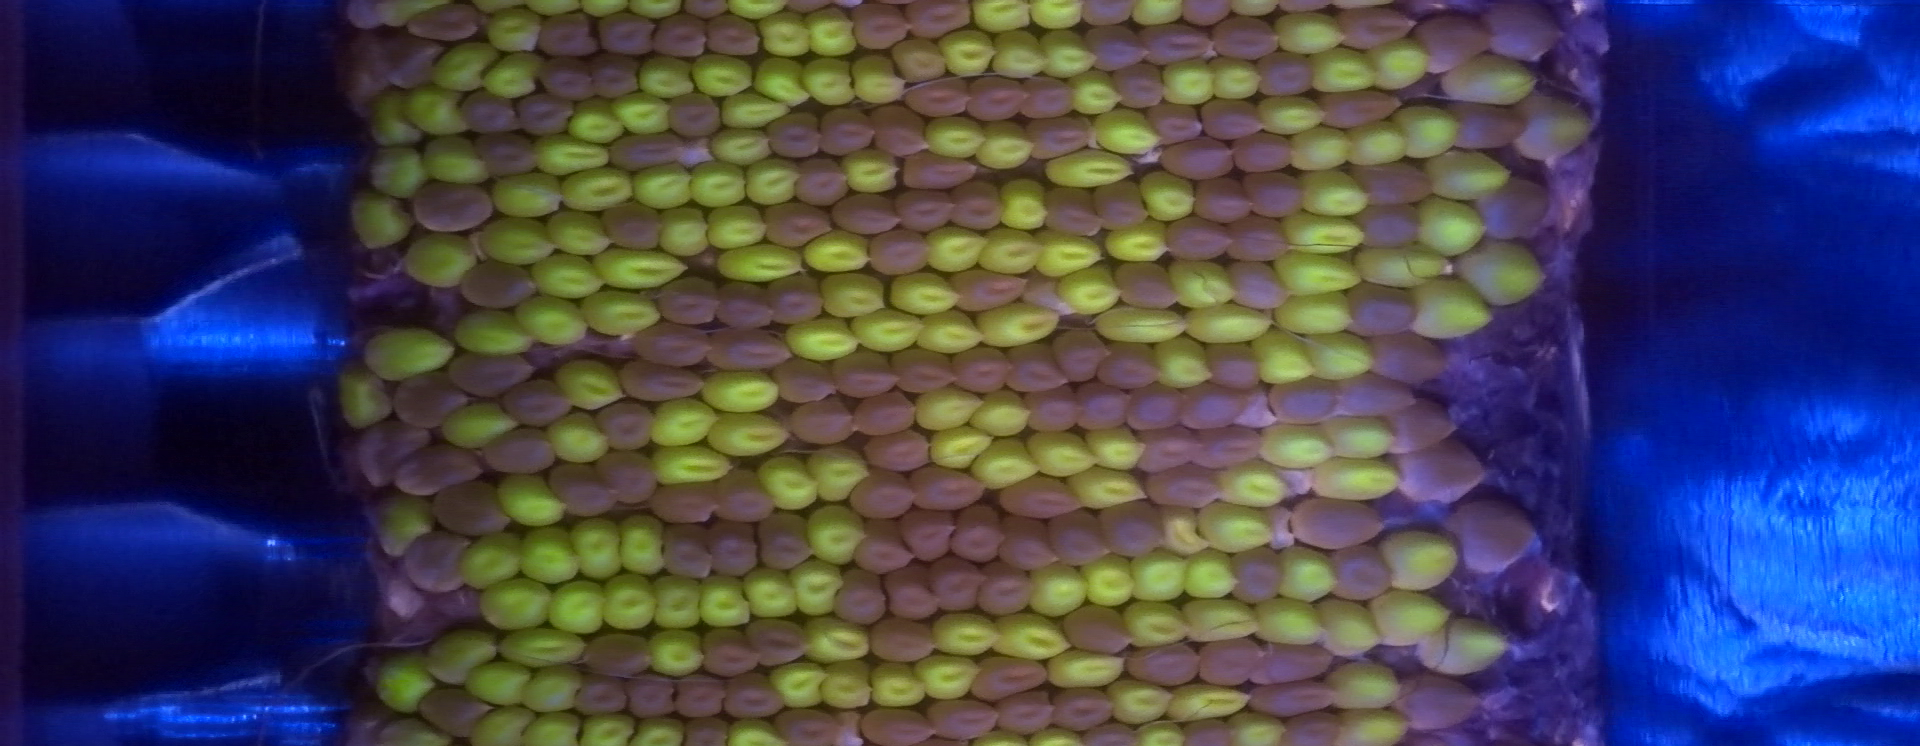fluorescent: (1520, 87, 1596, 162), (1464, 241, 1544, 305), (1446, 51, 1536, 108), (365, 321, 452, 379), (1417, 273, 1491, 338), (1375, 587, 1452, 649), (1428, 146, 1507, 205), (1424, 619, 1512, 670), (1387, 530, 1457, 593), (1418, 192, 1488, 254), (713, 405, 795, 456), (405, 230, 478, 287), (491, 171, 569, 223), (1281, 211, 1367, 257), (1357, 247, 1449, 290), (516, 295, 588, 349), (500, 472, 564, 530), (1202, 501, 1269, 559), (349, 190, 411, 250), (1184, 301, 1273, 343), (704, 366, 778, 416), (1259, 424, 1336, 472), (531, 249, 601, 301), (1093, 305, 1189, 343), (1331, 415, 1403, 464), (982, 303, 1058, 349), (476, 214, 552, 261), (478, 582, 553, 628), (1315, 461, 1400, 502), (518, 529, 580, 586), (1256, 599, 1330, 647), (563, 164, 634, 213), (451, 311, 531, 354), (1329, 661, 1400, 709), (1254, 328, 1315, 383), (373, 652, 435, 707), (915, 649, 977, 703), (599, 246, 684, 285), (980, 225, 1043, 278), (425, 632, 498, 677), (806, 502, 863, 560), (1276, 545, 1335, 601), (410, 81, 470, 136), (553, 361, 624, 408), (1280, 292, 1352, 337), (1185, 597, 1258, 642), (373, 491, 429, 550), (758, 456, 819, 508), (1058, 265, 1122, 315), (997, 612, 1065, 659), (1400, 103, 1457, 158), (647, 398, 716, 443), (442, 401, 516, 443), (1278, 255, 1363, 292), (598, 573, 655, 627), (587, 290, 659, 333), (1046, 649, 1124, 688), (786, 318, 860, 360), (1164, 680, 1248, 717), (365, 92, 420, 147), (465, 535, 523, 588), (551, 579, 602, 638), (1318, 601, 1376, 653), (1305, 173, 1371, 218), (422, 134, 485, 181), (972, 440, 1035, 488), (621, 517, 669, 579), (1029, 430, 1093, 475), (1044, 149, 1130, 184), (917, 311, 986, 354), (852, 310, 924, 350), (1073, 469, 1145, 510), (577, 514, 621, 581), (817, 272, 887, 314), (549, 414, 611, 461), (1134, 549, 1185, 605), (891, 268, 956, 312), (932, 608, 997, 652), (1082, 551, 1135, 605), (1032, 563, 1090, 612), (1261, 92, 1325, 136), (1221, 464, 1284, 508), (1310, 48, 1378, 89), (338, 367, 384, 428), (936, 29, 997, 75), (1303, 337, 1371, 377), (460, 661, 523, 706), (435, 45, 493, 92), (551, 209, 610, 256), (1174, 261, 1234, 306), (743, 158, 803, 203), (976, 388, 1029, 440), (747, 570, 800, 621), (1156, 339, 1211, 388), (654, 445, 732, 479), (1351, 120, 1408, 167), (1291, 127, 1353, 170), (1095, 111, 1157, 154), (1272, 10, 1344, 47), (692, 54, 756, 96), (1109, 680, 1169, 724), (807, 9, 860, 59), (801, 55, 853, 105), (851, 54, 901, 107), (812, 450, 864, 500), (996, 24, 1044, 78), (792, 560, 841, 614), (1182, 550, 1238, 597), (927, 119, 989, 160), (927, 426, 989, 468), (1089, 428, 1147, 472), (767, 661, 825, 706), (1138, 171, 1191, 219), (525, 668, 585, 710), (926, 223, 981, 269), (1371, 44, 1429, 88), (721, 91, 790, 127), (658, 576, 705, 628), (540, 141, 607, 178), (915, 388, 976, 429), (485, 6, 542, 49), (1128, 604, 1185, 647), (980, 122, 1031, 170), (651, 628, 707, 673), (1037, 232, 1101, 269), (756, 58, 804, 107), (700, 578, 749, 627), (640, 58, 696, 100), (1044, 28, 1093, 76), (372, 148, 424, 194), (484, 60, 541, 100), (474, 706, 531, 746), (802, 624, 864, 660), (1343, 708, 1409, 742), (708, 129, 769, 165), (1112, 224, 1167, 265), (567, 100, 620, 142), (849, 148, 896, 194), (760, 10, 809, 54), (1164, 56, 1213, 100), (869, 665, 924, 704), (375, 719, 454, 746), (616, 89, 665, 132), (1004, 178, 1046, 228), (823, 664, 873, 706), (1224, 712, 1283, 746), (1070, 70, 1118, 108), (524, 710, 574, 746), (580, 713, 631, 746), (1217, 58, 1259, 96), (636, 714, 678, 746), (981, 1, 1031, 27), (1032, 1, 1082, 24)
nonfluorescent: (1458, 499, 1539, 576), (1395, 442, 1490, 502), (1291, 495, 1384, 549), (1416, 13, 1495, 73), (1491, 1, 1564, 66), (355, 425, 429, 485), (1400, 676, 1480, 730), (389, 375, 467, 430), (411, 180, 493, 232), (1478, 180, 1548, 240), (430, 488, 508, 539), (549, 462, 617, 521), (454, 260, 538, 307), (1106, 499, 1167, 562), (1337, 367, 1413, 418), (912, 464, 984, 517), (1452, 99, 1524, 151), (1344, 282, 1413, 336), (763, 200, 836, 250), (640, 322, 715, 371), (1336, 546, 1396, 606), (618, 360, 704, 402), (506, 380, 577, 430), (398, 445, 480, 488), (973, 650, 1047, 698), (850, 472, 921, 521), (1357, 158, 1431, 205), (444, 352, 530, 392), (1059, 605, 1131, 653), (598, 450, 661, 503), (1127, 638, 1200, 685), (408, 530, 464, 590), (760, 510, 814, 572), (422, 688, 492, 736), (927, 696, 1002, 740), (583, 628, 651, 676), (715, 330, 793, 371), (1367, 331, 1445, 372), (1391, 401, 1455, 451), (943, 503, 1000, 559), (873, 100, 931, 156), (1042, 183, 1100, 238), (485, 429, 555, 474), (660, 274, 722, 325), (479, 131, 542, 180), (1051, 687, 1119, 733), (1051, 511, 1109, 563), (771, 355, 838, 402), (658, 521, 711, 577), (1119, 258, 1176, 312), (606, 198, 666, 249), (951, 344, 1011, 394), (720, 671, 781, 720), (642, 486, 718, 526), (1272, 379, 1340, 423), (1155, 140, 1236, 176), (1053, 327, 1106, 383), (853, 521, 911, 572), (384, 40, 443, 91), (1145, 465, 1220, 505), (1004, 477, 1079, 516), (860, 704, 929, 746), (1177, 386, 1247, 428), (1232, 212, 1288, 263), (932, 554, 981, 612), (955, 267, 1029, 306), (1342, 10, 1420, 47), (1253, 680, 1333, 715), (622, 674, 682, 722), (1213, 13, 1273, 61), (1255, 51, 1315, 99), (1097, 344, 1158, 391), (605, 131, 680, 169), (966, 75, 1029, 120), (977, 568, 1033, 619), (600, 401, 658, 450), (710, 522, 759, 579), (1162, 218, 1229, 260), (1322, 89, 1398, 126), (864, 431, 936, 470), (902, 1, 973, 40), (998, 516, 1051, 568), (835, 571, 887, 625), (1089, 21, 1142, 72), (1200, 639, 1262, 684), (888, 561, 936, 619), (1228, 261, 1286, 309), (1005, 343, 1064, 390), (868, 228, 927, 274), (1234, 548, 1281, 605), (1243, 171, 1300, 218), (1264, 641, 1330, 681), (699, 626, 759, 670), (542, 9, 596, 58), (716, 475, 771, 523), (1026, 383, 1081, 431), (1362, 206, 1423, 249), (666, 92, 722, 138), (836, 358, 899, 399), (704, 15, 763, 59), (780, 702, 839, 746), (901, 510, 953, 560), (673, 675, 727, 723), (893, 185, 953, 228), (405, 5, 478, 40), (1124, 385, 1180, 430), (719, 281, 776, 325), (868, 619, 931, 659), (1273, 710, 1344, 746), (904, 153, 977, 187), (517, 92, 571, 138), (767, 113, 820, 159), (820, 107, 874, 153), (996, 688, 1051, 734), (1209, 341, 1265, 385), (1193, 176, 1249, 220), (895, 349, 953, 392), (771, 277, 822, 326), (951, 181, 1004, 228), (1200, 428, 1262, 467), (458, 89, 513, 134), (1131, 431, 1195, 469), (1113, 62, 1162, 111), (1075, 380, 1125, 428), (1144, 23, 1206, 61), (855, 391, 915, 430), (907, 77, 967, 116), (835, 194, 899, 230), (793, 156, 846, 200), (1095, 183, 1144, 229), (601, 13, 655, 55), (752, 619, 806, 660), (1032, 115, 1089, 154), (591, 58, 643, 100), (578, 673, 628, 715), (1236, 129, 1287, 170), (540, 61, 594, 100), (1025, 69, 1071, 114), (655, 15, 704, 58), (853, 10, 910, 47), (1149, 100, 1200, 140), (795, 402, 846, 439), (1179, 717, 1232, 746)
